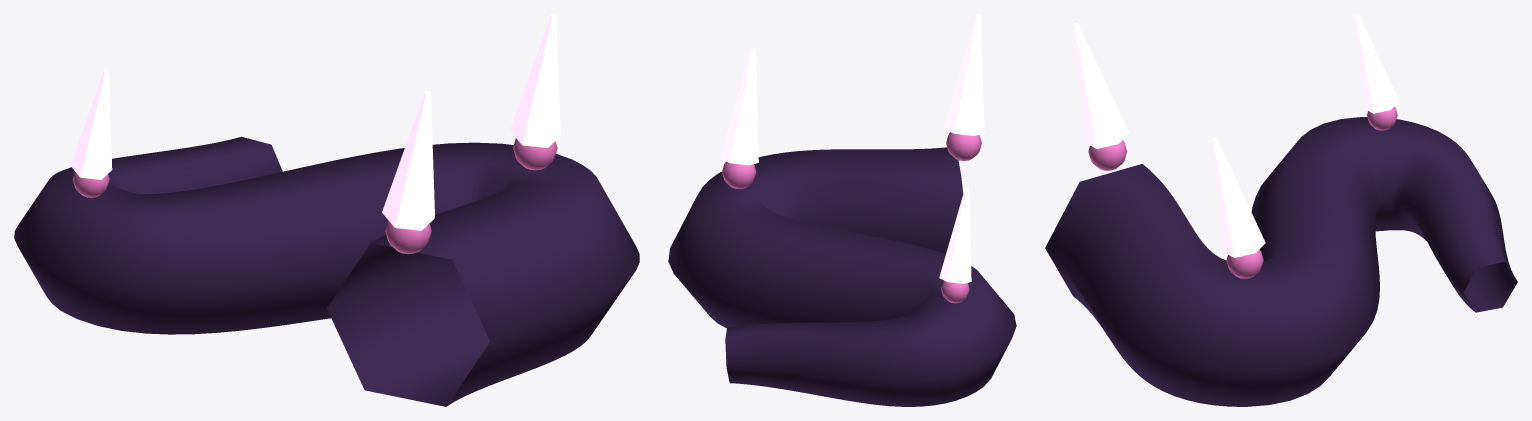
File: SM_Keeper_Apep_Body_F20.fbx
The picture shows the model from 3 angles, left to right: view 1: azimuth 30°, elevation 25°; view 2: azimuth 150°, elevation 25°; view 3: azimuth 270°, elevation 25°; orthographic projection. The views are drawn at different scales.
Parts seen in each view (by area): view 1: SM_Keeper_Apep_Body_F20; view 2: SM_Keeper_Apep_Body_F20; view 3: SM_Keeper_Apep_Body_F20.
Part boxes in pixels (x1,y1,x2,y2): SM_Keeper_Apep_Body_F20: [14, 14, 639, 406]; SM_Keeper_Apep_Body_F20: [668, 14, 1016, 406]; SM_Keeper_Apep_Body_F20: [1045, 14, 1517, 406].
Bounding box in the file's own units: 6.62 × 4.36 × 6.54.
